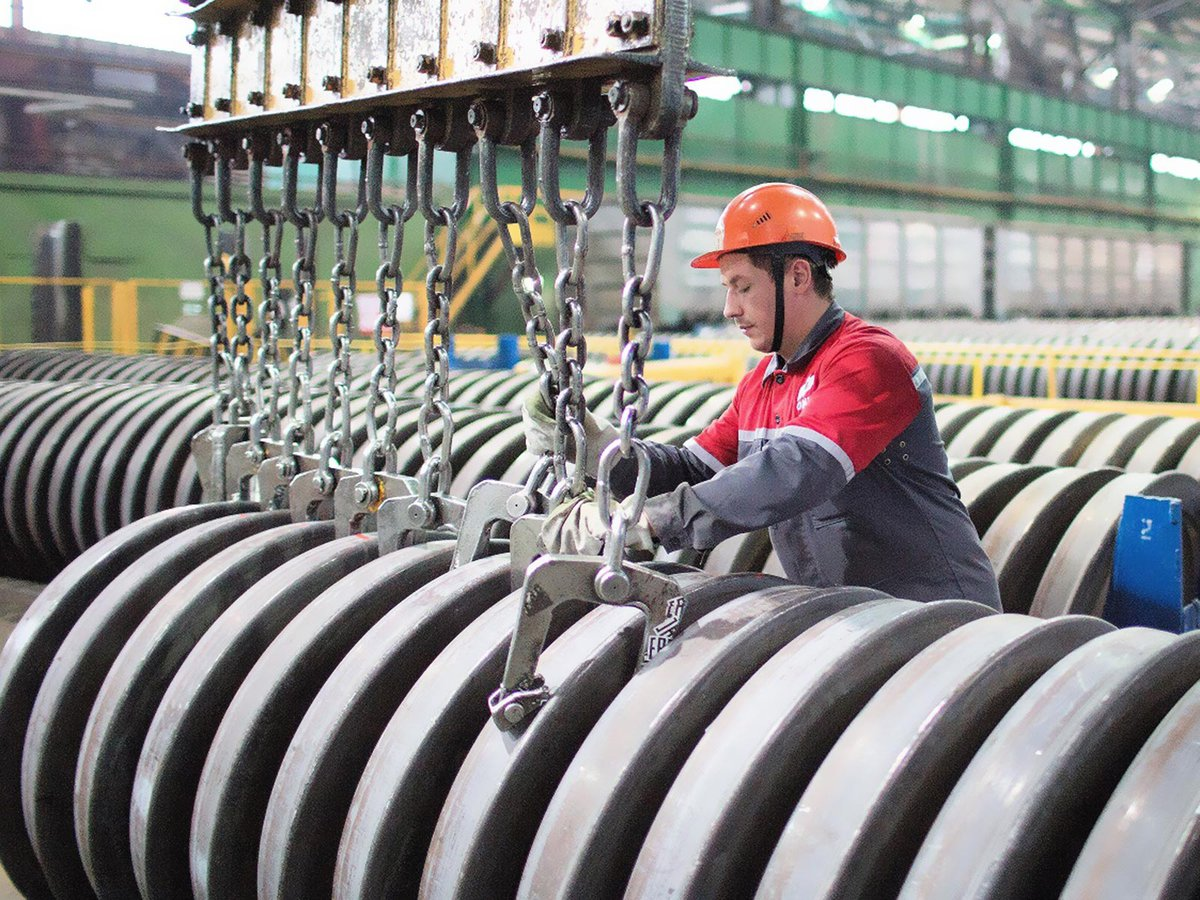person: (520, 183, 1003, 616)
